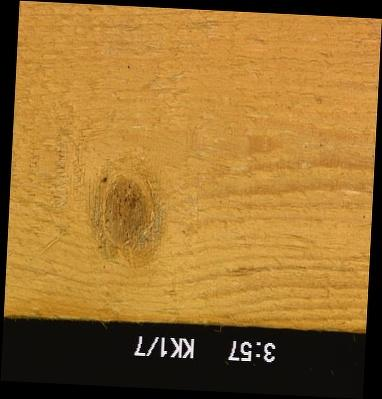sound_knot: (89, 165, 162, 261)
